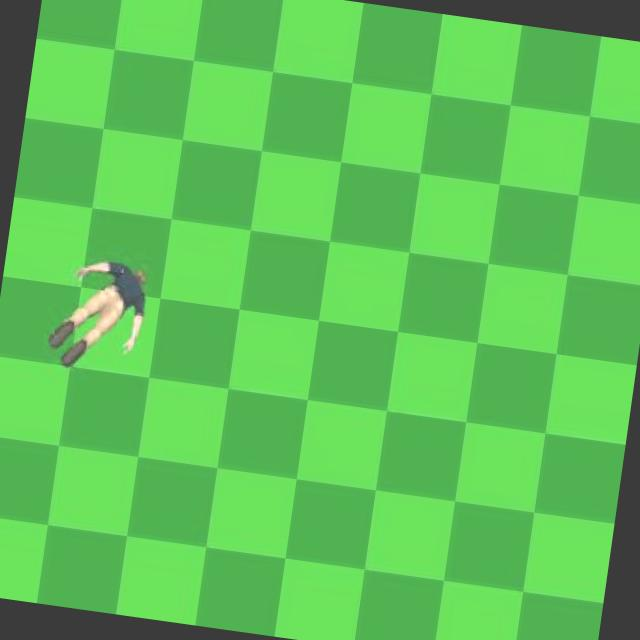Person: (41, 250, 156, 382)
